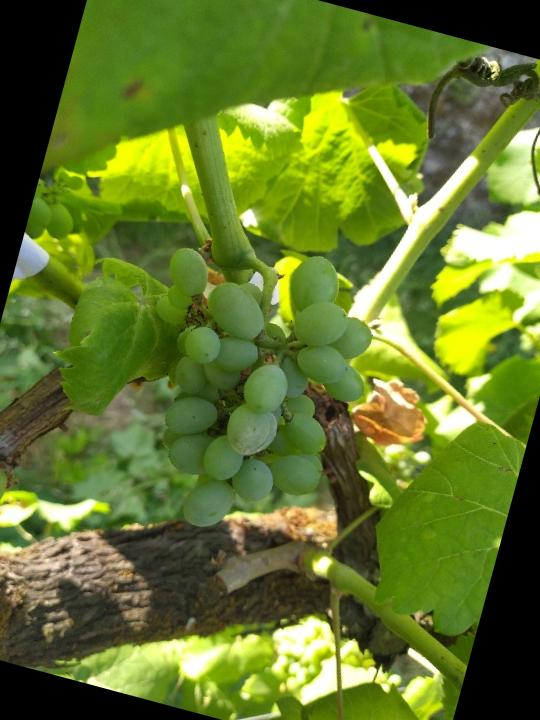grape: (94, 215, 404, 568)
